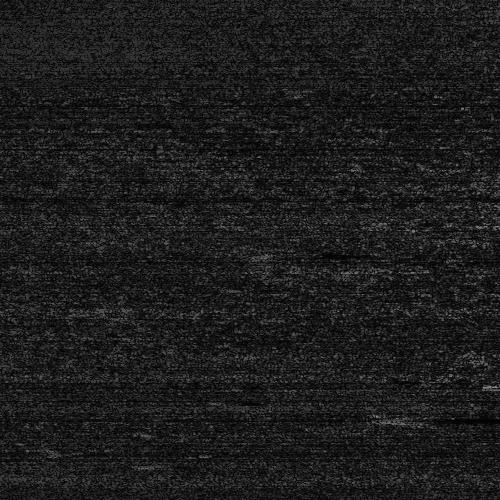rock: (351, 413, 444, 422), (252, 248, 325, 257), (448, 381, 500, 390)
shadow: (398, 413, 497, 422), (289, 248, 357, 257)
